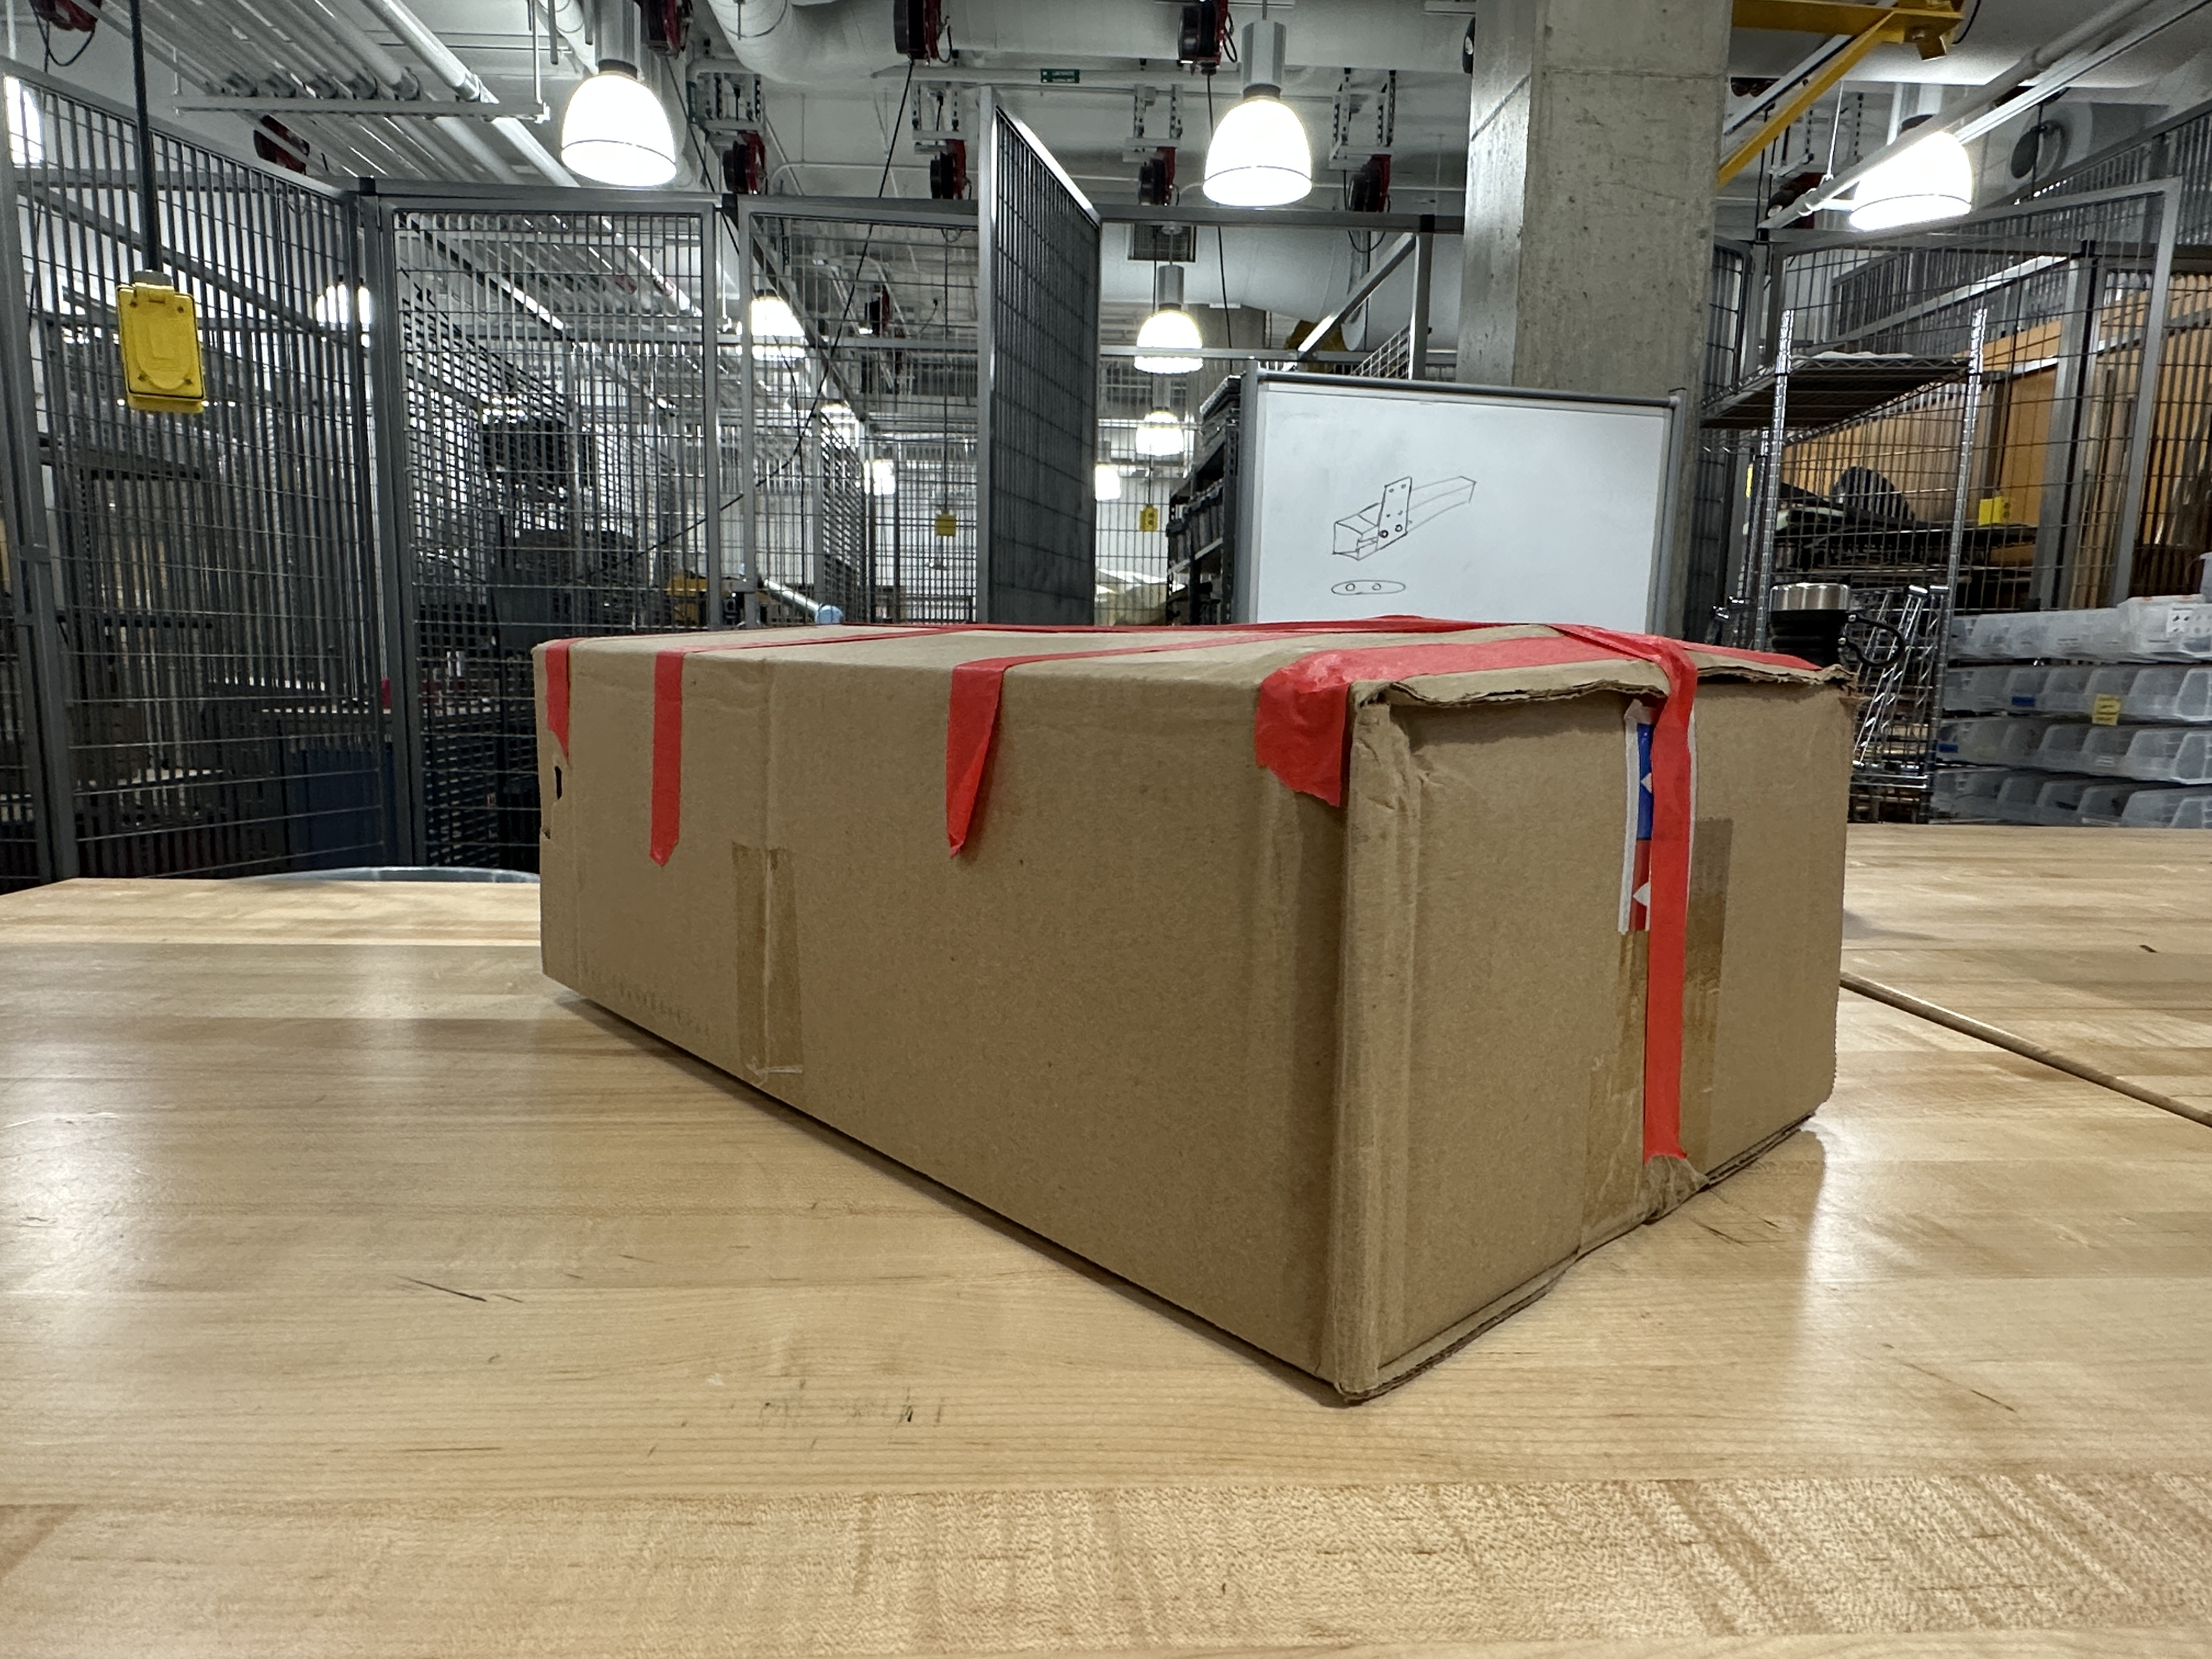Box_Obstacle: (529, 599, 1853, 1408)
